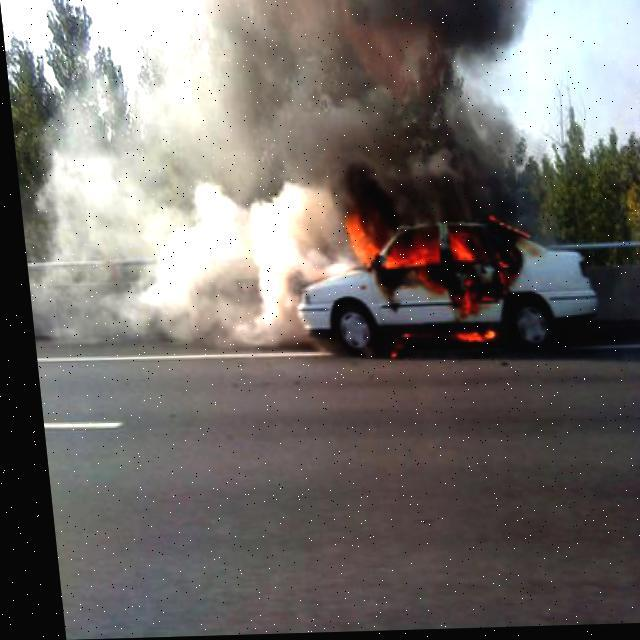Fire: (336, 191, 538, 363)
